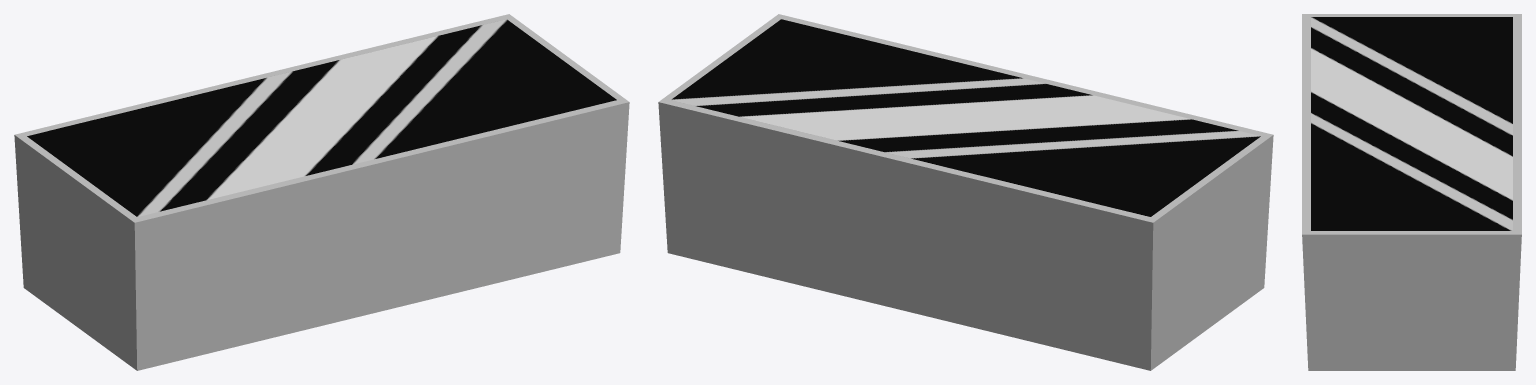
The model's file is stand02.fbx.
3 views of the same model, side by side, from view 1: azimuth 30°, elevation 25°; view 2: azimuth 150°, elevation 25°; view 3: azimuth 270°, elevation 25° (orthographic). The views are drawn at different scales.
Parts seen in each view (by area): view 1: stand02; view 2: stand02; view 3: stand02.
Part boxes in pixels (left/top/right/bottom): stand02: left=14, top=14, right=629, bottom=370; stand02: left=658, top=14, right=1273, bottom=370; stand02: left=1302, top=14, right=1521, bottom=370.
Bounding box in the file's own units: 276 × 81.29 × 116.
